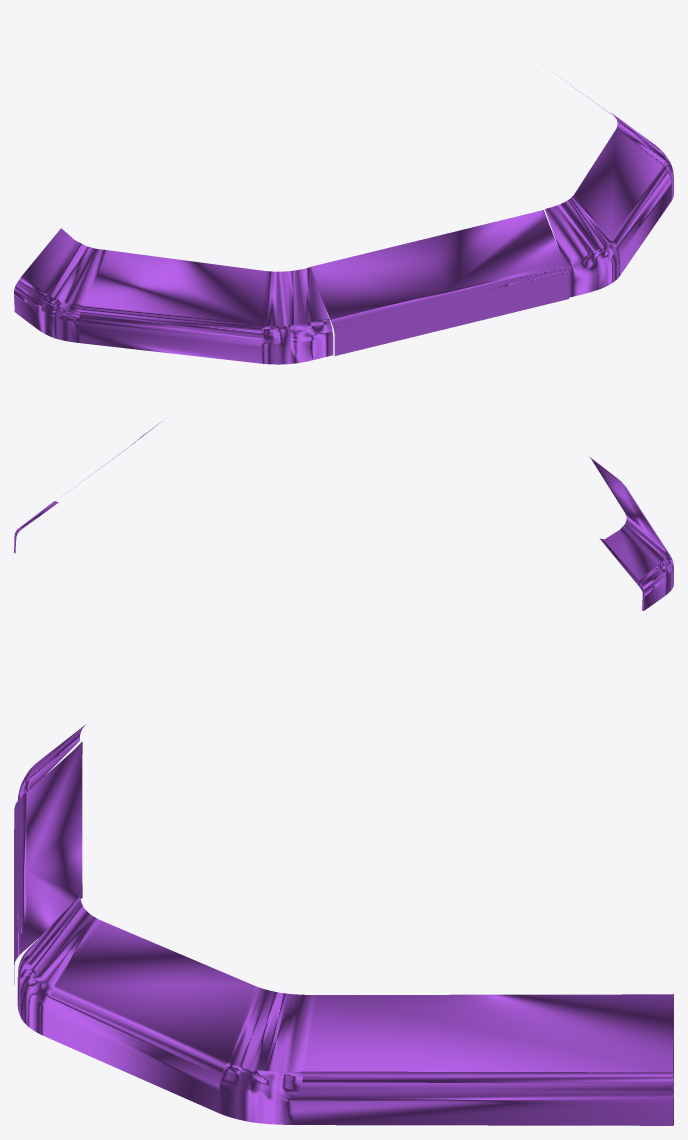
Rendered from voyager_bar_exterior_glass.glb.
3 views of the same model, one above another, from view 1: azimuth 30°, elevation 25°; view 2: azimuth 150°, elevation 25°; view 3: azimuth 270°, elevation 25° (orthographic). The views are drawn at different scales.
Size of the model in its own units: 31.33 by 3.54 by 20.92.
